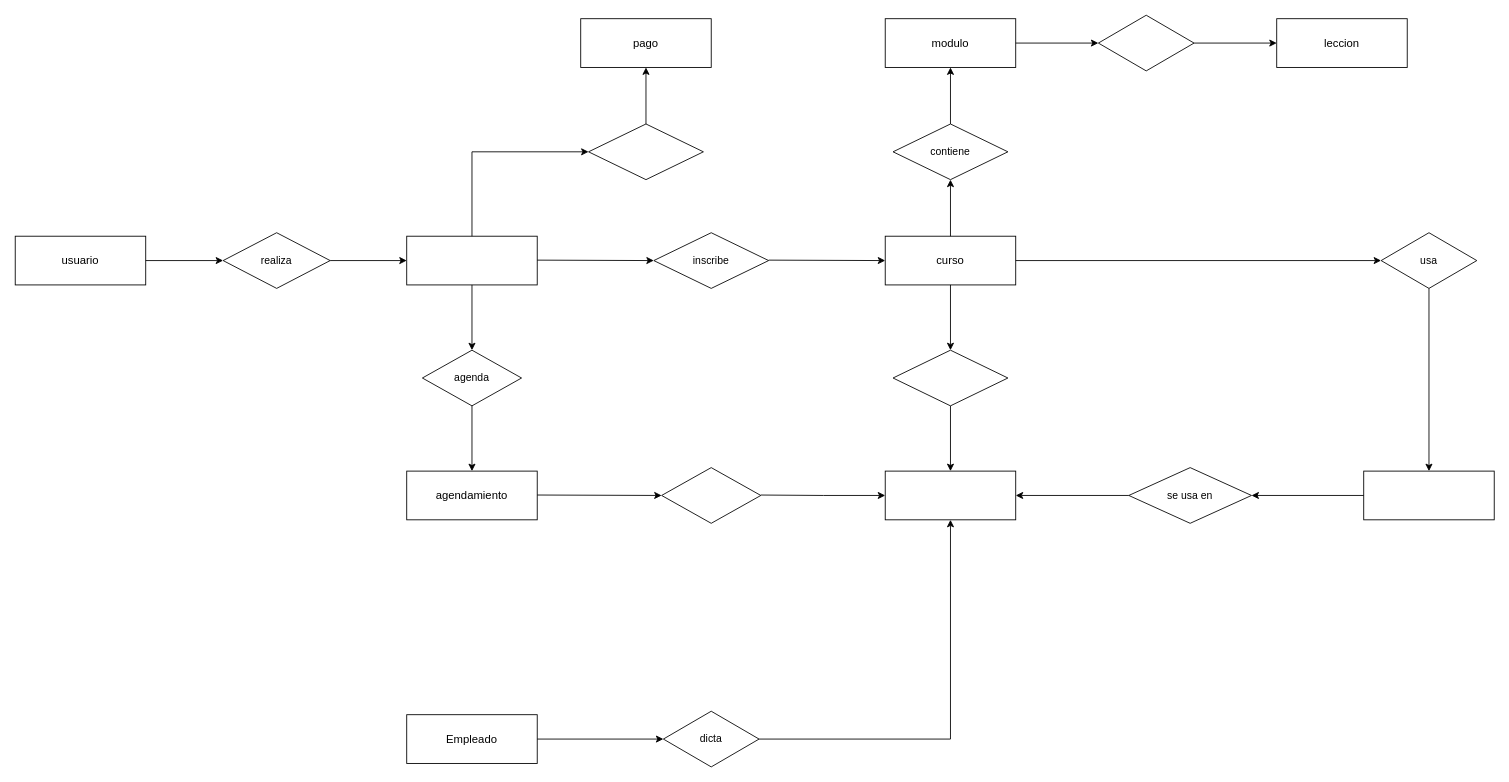
Image size: 1509x782. Some labels were removed from this diagram. The box of each missing label's shape, as (x1, y1, x2, y2) in pixels:
clase: (884, 470, 1016, 520)
matricula: (406, 235, 537, 285)
programa: (892, 349, 1008, 406)
recibe: (661, 467, 761, 523)
registra: (588, 123, 703, 180)
tiene: (1098, 14, 1194, 71)
vehiculo: (1363, 470, 1494, 520)
